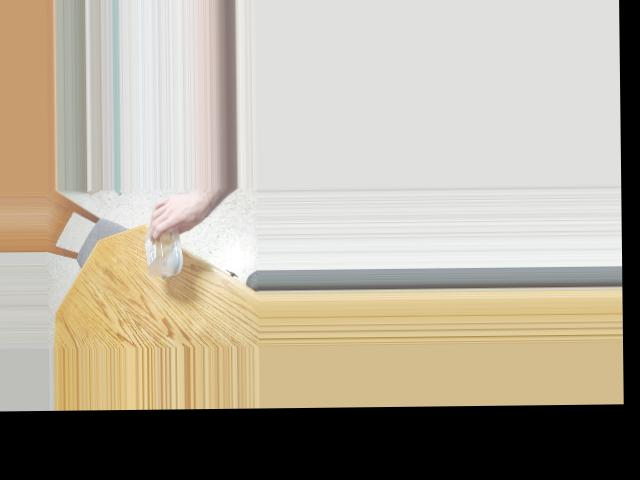cheese: (131, 222, 206, 277)
